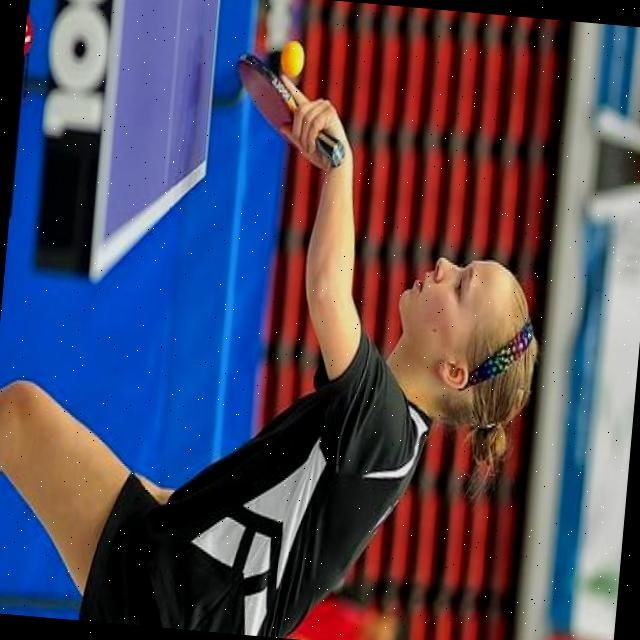ping-pong-ball: (278, 40, 306, 80)
